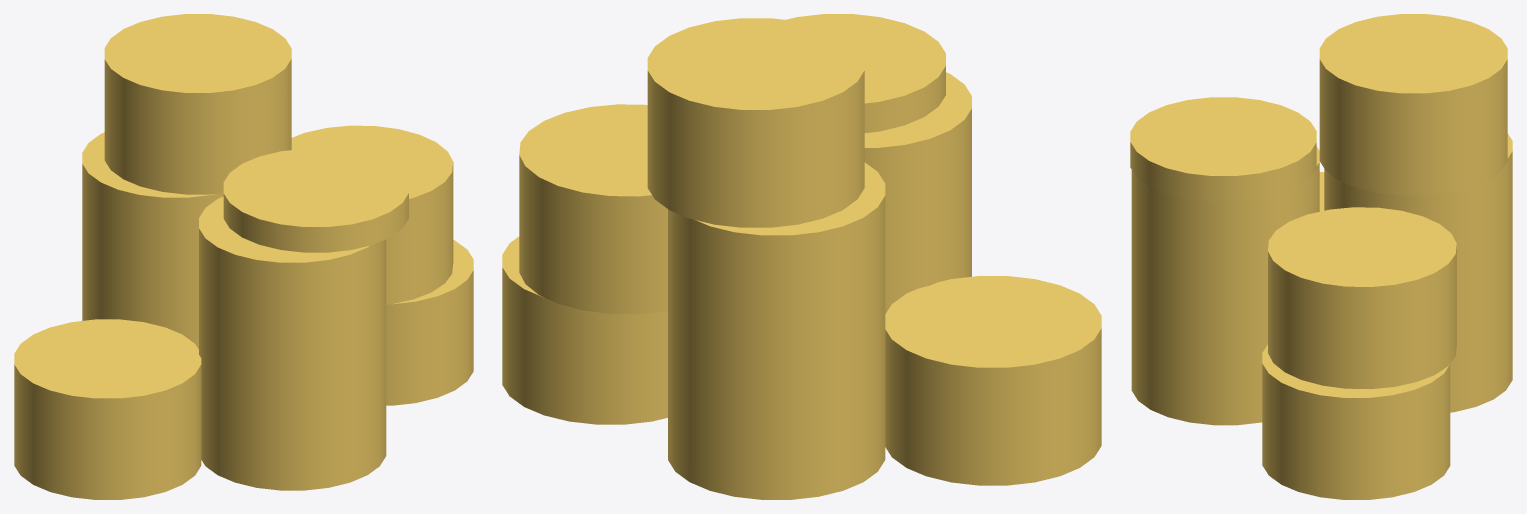
Rendered from SM_FW01_Coins_03.fbx.
3 views of the same model, side by side, from view 1: azimuth 30°, elevation 25°; view 2: azimuth 150°, elevation 25°; view 3: azimuth 270°, elevation 25° (orthographic). The views are drawn at different scales.
Visible parts, largest first — view 1: SM_FW01_Coins_03_LOD0; view 2: SM_FW01_Coins_03_LOD0; view 3: SM_FW01_Coins_03_LOD0.
Part boxes in pixels (left/top/right/bottom): SM_FW01_Coins_03_LOD0: left=14, top=14, right=473, bottom=499; SM_FW01_Coins_03_LOD0: left=502, top=14, right=1101, bottom=499; SM_FW01_Coins_03_LOD0: left=1130, top=14, right=1512, bottom=499.
Size of what is drawn, in the model's own units: 0.3115 by 0.2119 by 0.2215.
